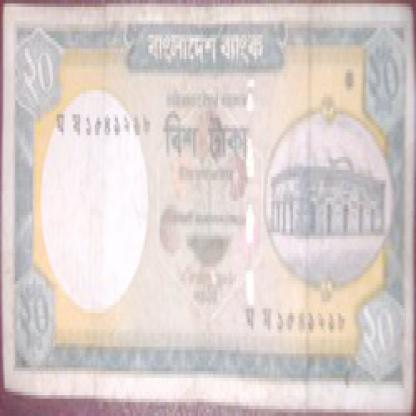Twenty: (154, 111, 260, 170), (15, 38, 78, 121), (11, 264, 62, 360), (350, 298, 408, 381), (361, 35, 406, 128)
